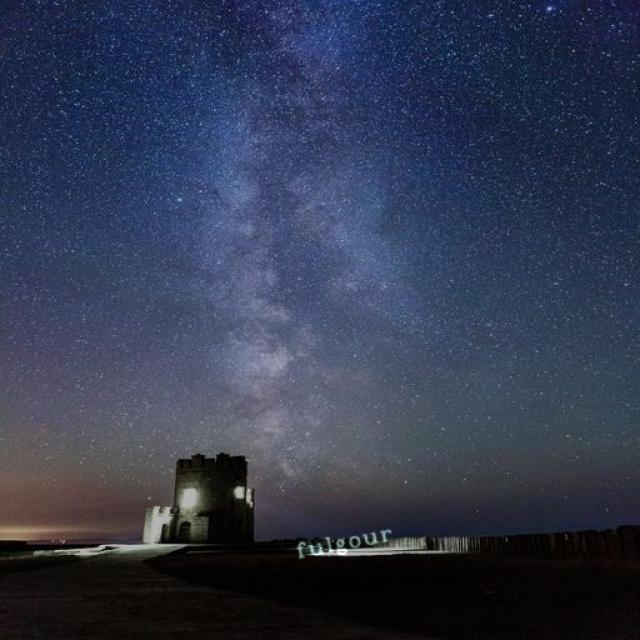watermark: (291, 522, 393, 561)
